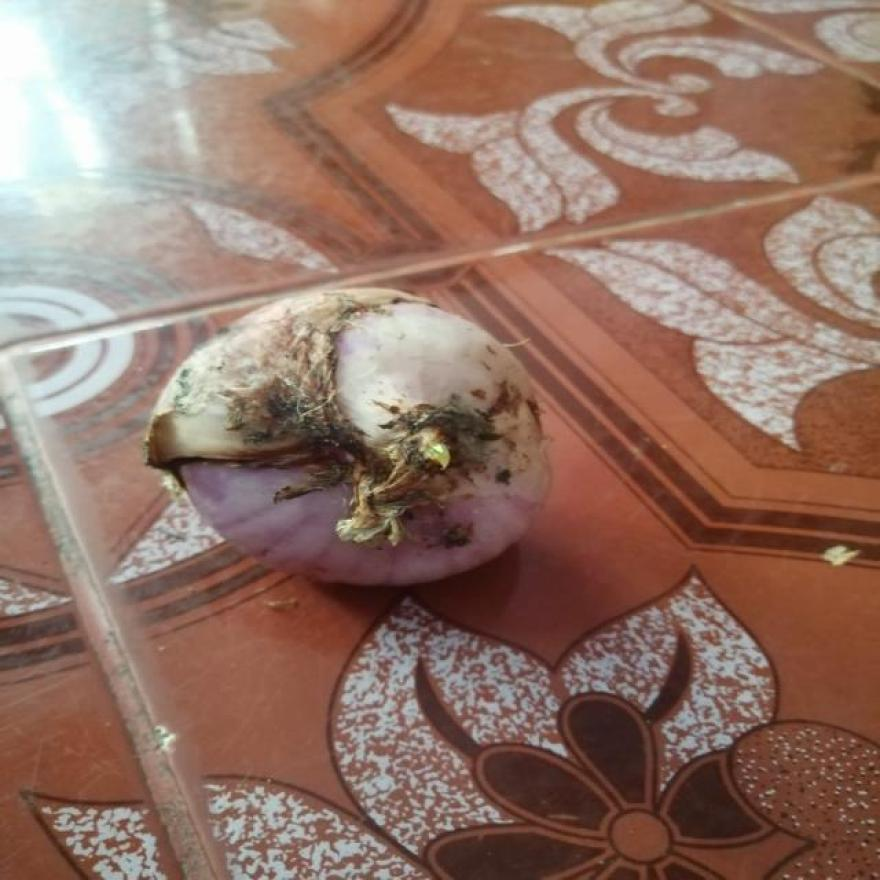Rotten: (218, 349, 504, 479)
